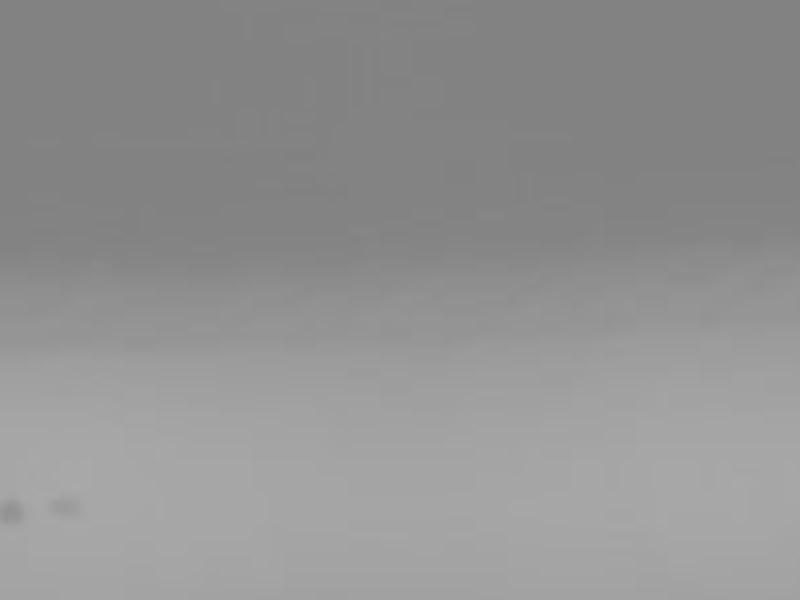defect: (2, 494, 31, 528), (52, 496, 84, 518)
